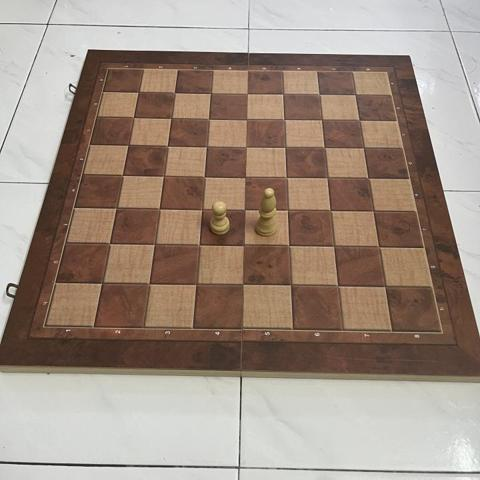xcorner: (310, 86, 327, 103), (350, 112, 367, 129), (275, 111, 292, 128), (125, 109, 142, 126), (315, 139, 332, 156), (318, 169, 335, 186), (114, 166, 131, 183), (150, 199, 167, 216), (280, 237, 297, 254), (235, 236, 252, 253), (101, 234, 118, 251), (376, 278, 393, 295), (140, 274, 157, 291), (346, 87, 363, 103), (238, 85, 254, 102), (166, 84, 182, 101), (237, 111, 254, 127), (200, 110, 216, 127), (162, 110, 179, 126), (276, 139, 293, 155), (237, 138, 253, 155), (198, 137, 214, 154), (120, 136, 136, 153), (359, 170, 376, 186), (277, 169, 294, 185), (236, 168, 253, 184), (196, 167, 212, 184), (364, 203, 381, 219), (321, 202, 338, 218), (279, 201, 295, 218), (193, 200, 210, 216), (108, 198, 124, 215), (370, 239, 387, 255), (190, 236, 207, 252), (329, 277, 345, 294), (234, 276, 251, 292), (187, 275, 204, 291), (94, 273, 110, 290), (274, 86, 290, 102), (202, 85, 218, 101), (130, 84, 146, 100), (313, 112, 329, 128), (355, 140, 371, 156), (159, 137, 175, 153), (155, 167, 171, 183), (236, 201, 252, 217), (325, 238, 341, 254), (146, 235, 162, 251), (282, 277, 298, 293)
